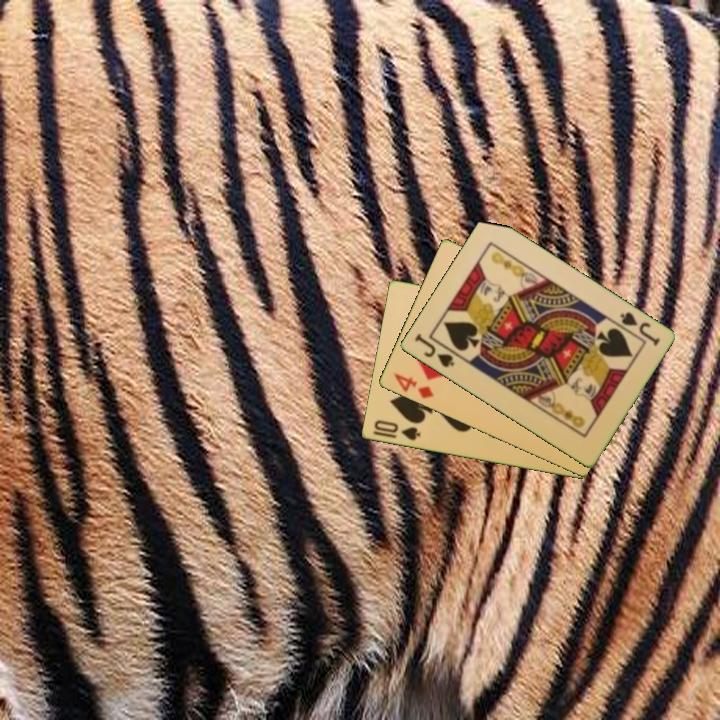10s: (370, 417, 423, 444)
4d: (390, 370, 436, 402)
Js: (616, 308, 663, 349), (411, 330, 457, 371)
